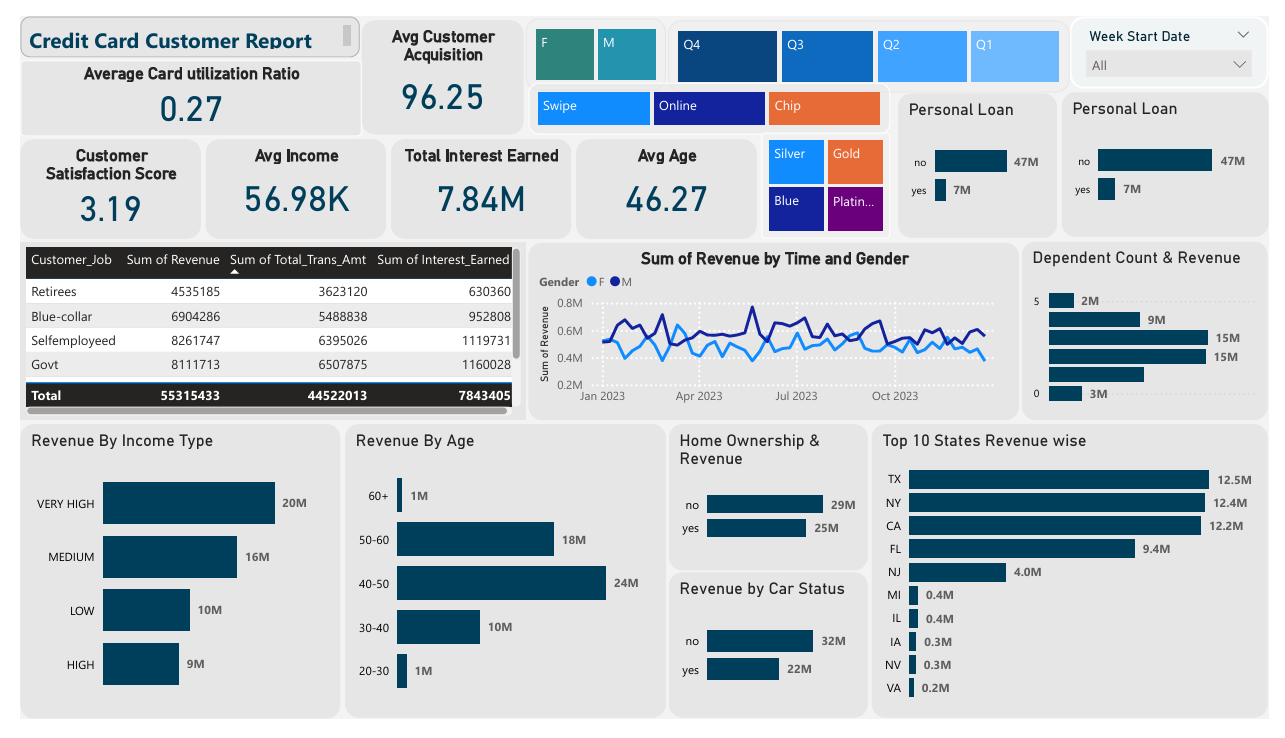

What the dashboard file says about the page in this screenshot:
{"tool":"powerbi","page":{"name":"Credit Card Customer ","canvas":[1280,720],"ordinal":2},"visuals":[{"type":"textbox","box":[0,0,348,42],"z":0},{"type":"clusteredBarChart","title":"Revenue By Income Type","fields":{"Category":["customer.IncomeGroup"],"Y":["Sum(credit_card.Revenue)"]},"box":[0,418,328,302],"z":1000},{"type":"tableEx","fields":{"Values":["customer.Customer_Job","Sum(credit_card.Revenue)","Sum(credit_card.Total_Trans_Amt)","Sum(credit_card.Interest_Earned)"]},"box":[0,232,518,182],"z":2000},{"type":"card","title":"Customer Satisfaction Score","fields":{"Values":["Avg(customer.Cust_Satisfaction_Score)"]},"box":[0,126,185,102],"z":3000},{"type":"card","title":"Avg Income","fields":{"Values":["Avg(customer.Income)"]},"box":[190,126,185,102],"z":4000},{"type":"card","title":"Total Interest Earned","fields":{"Values":["Sum(credit_card.Interest_Earned)"]},"box":[380,126,185,102],"z":5000},{"type":"card","title":"Avg Age","fields":{"Values":["Avg(customer.Customer_Age)"]},"box":[570,126,185,102],"z":6000},{"type":"slicer","fields":{"Values":["credit_card.Week_Start_Date"]},"box":[1076,0,204,74],"z":7000},{"type":"treemap","fields":{"Group":["credit_card.Qtr"],"Values":["Avg(credit_card.Client_Num)"]},"box":[664,4,412,74],"z":8000},{"type":"treemap","fields":{"Group":["customer.Gender"],"Values":["Avg(credit_card.Client_Num)"]},"box":[518,2,144,74],"z":9000},{"type":"treemap","fields":{"Group":["credit_card.Use Chip"],"Values":["Avg(credit_card.Client_Num)"]},"box":[521,68,371.3,53],"z":10000},{"type":"card","title":"Avg Customer Acquisition ","fields":{"Values":["Avg(credit_card.Customer_Acq_Cost)"]},"box":[350,4,166,117],"z":11000},{"type":"card","title":"Average Card utilization Ratio","fields":{"Values":["Avg(credit_card.Avg_Utilization_Ratio)"]},"box":[0,45,350,78],"z":12000},{"type":"treemap","fields":{"Group":["credit_card.Card_Category"],"Values":["Avg(credit_card.Client_Num)"]},"box":[760,118.6,132,109],"z":13000},{"type":"lineChart","title":"Sum of Revenue by Time and Gender","fields":{"Y":["Sum(credit_card.Revenue)"],"Series":["customer.Gender"],"Category":["credit_card.Week_Start_Date.Variation.Date Hierarchy.Year","credit_card.Week_Start_Date.Variation.Date Hierarchy.Month","credit_card.Week_Start_Date.Variation.Date Hierarchy.Day"]},"box":[521,232,503,182],"z":14000},{"type":"clusteredBarChart","title":"Revenue By Age","fields":{"Category":["customer.AgeGroup"],"Y":["Sum(credit_card.Revenue)"]},"box":[333,418,328.6,301.3],"z":15000},{"type":"clusteredBarChart","title":"Revenue by Car Status","fields":{"Category":["customer.Car_Owner"],"Y":["Sum(credit_card.Revenue)"]},"box":[664.9,569.6,204.1,149.7],"z":16000},{"type":"clusteredBarChart","title":"Home Ownership & Revenue","fields":{"Category":["customer.House_Owner"],"Y":["Sum(credit_card.Revenue)"]},"box":[664.9,418,204.1,149.7],"z":17000},{"type":"clusteredBarChart","title":"Top 10 States Revenue wise","fields":{"Y":["Sum(credit_card.Revenue)"],"Category":["customer.state_cd"]},"box":[872.9,418,406.3,301.3],"z":18000},{"type":"clusteredBarChart","title":"Dependent Count & Revenue","fields":{"Category":["customer.Dependent_Count"],"Y":["Sum(credit_card.Revenue)"]},"box":[1026.5,231.4,252.7,182.7],"z":19000},{"type":"barChart","title":"Personal Loan","fields":{"Y":["Sum(credit_card.Revenue)"],"Category":["customer.Personal_loan"]},"box":[900.1,79,163.3,148],"z":20000},{"type":"barChart","title":"Personal Loan","fields":{"Y":["Sum(credit_card.Revenue)"],"Category":["customer.Personal_loan"]},"box":[1068,77.8,212,147.8],"z":21000}]}

Visuals, with their boxes in screenshot pixels (x1, y1, x2, y2), scaled from the page's 1280x720 canvas onto the 1285x738 screenshot:
textbox: 0, 0, 349, 43
"Revenue By Income Type" clusteredBarChart: 0, 428, 329, 737
tableEx - customer.Customer_Job x Sum(credit_card.Revenue): 0, 238, 520, 424
"Customer Satisfaction Score" card: 0, 129, 186, 234
"Avg Income" card: 191, 129, 376, 234
"Total Interest Earned" card: 381, 129, 567, 234
"Avg Age" card: 572, 129, 758, 234
slicer - credit_card.Week_Start_Date: 1080, 0, 1284, 76
treemap - credit_card.Qtr x Avg(credit_card.Client_Num): 667, 4, 1080, 80
treemap - customer.Gender x Avg(credit_card.Client_Num): 520, 2, 665, 78
treemap - credit_card.Use Chip x Avg(credit_card.Client_Num): 523, 70, 896, 124
"Avg Customer Acquisition " card: 351, 4, 518, 124
"Average Card utilization Ratio" card: 0, 46, 351, 126
treemap - credit_card.Card_Category x Avg(credit_card.Client_Num): 763, 122, 895, 233
"Sum of Revenue by Time and Gender" lineChart: 523, 238, 1028, 424
"Revenue By Age" clusteredBarChart: 334, 428, 664, 737
"Revenue by Car Status" clusteredBarChart: 667, 584, 872, 737
"Home Ownership & Revenue" clusteredBarChart: 667, 428, 872, 582
"Top 10 States Revenue wise" clusteredBarChart: 876, 428, 1284, 737
"Dependent Count & Revenue" clusteredBarChart: 1031, 237, 1284, 424
"Personal Loan" barChart: 904, 81, 1068, 233
"Personal Loan" barChart: 1072, 80, 1284, 231
